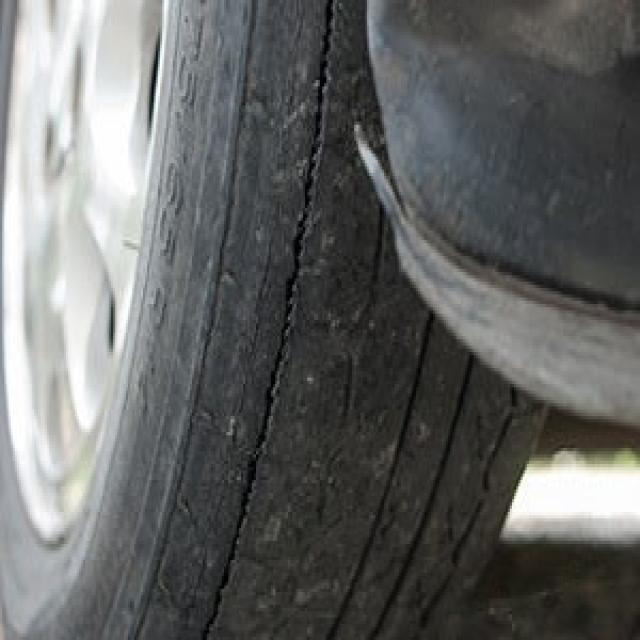Flat spots: (184, 0, 373, 640)
